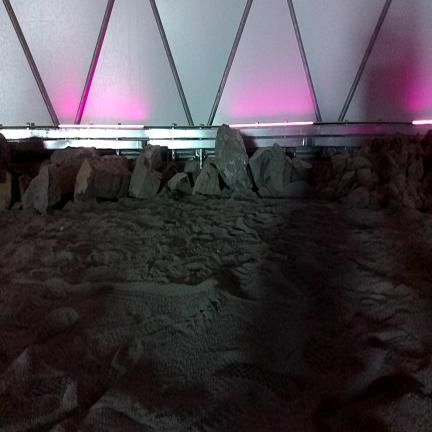Rock: (215, 125, 252, 192), (75, 159, 131, 202), (249, 143, 292, 195), (22, 164, 61, 212), (129, 157, 162, 198), (51, 147, 97, 166), (193, 163, 220, 195), (75, 159, 95, 202), (59, 160, 83, 193), (136, 145, 162, 171), (282, 181, 316, 198), (335, 171, 355, 199), (345, 186, 370, 208), (292, 158, 313, 183), (404, 182, 423, 209), (0, 134, 13, 172), (101, 155, 131, 171), (357, 169, 379, 190), (168, 173, 191, 193), (0, 170, 11, 210), (184, 159, 200, 185), (382, 155, 400, 178), (162, 162, 180, 185), (347, 156, 371, 171), (385, 181, 403, 201), (407, 143, 423, 165), (331, 155, 347, 176), (408, 158, 423, 180), (19, 175, 32, 198), (395, 150, 408, 172), (391, 174, 406, 191), (370, 191, 385, 207), (422, 172, 432, 194), (320, 187, 335, 200), (402, 196, 416, 209), (422, 130, 431, 149), (39, 159, 52, 172), (257, 186, 272, 197), (328, 178, 340, 190), (341, 149, 351, 161), (424, 195, 431, 212), (349, 182, 359, 193), (11, 202, 22, 210)
